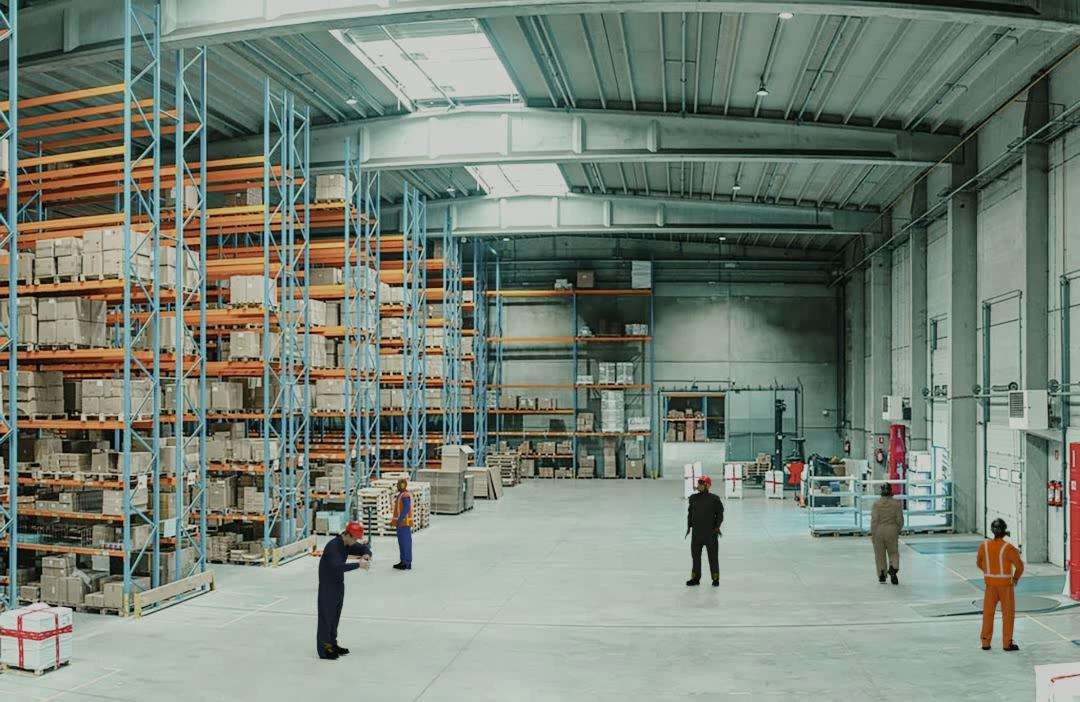Helmet: (346, 522, 364, 537), (991, 516, 1009, 530), (697, 474, 712, 484), (880, 481, 894, 491)
Jacket: (982, 540, 1017, 580), (391, 491, 412, 526)
Shoes: (317, 647, 337, 660), (889, 565, 898, 584), (336, 644, 350, 655), (686, 577, 701, 586), (1003, 644, 1019, 652), (393, 564, 412, 570), (711, 577, 720, 586), (980, 644, 991, 651), (879, 572, 886, 581)
